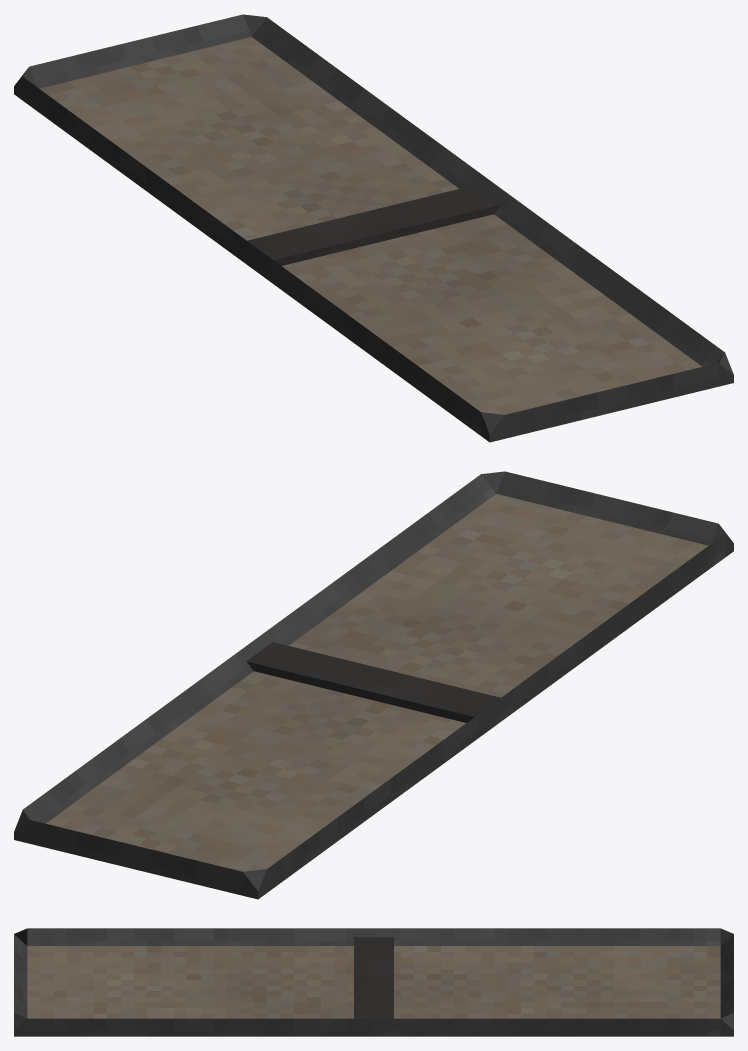
Rendered from big_switch_base.gltf.
3 views of the same model, one above another, from view 1: azimuth 30°, elevation 25°; view 2: azimuth 150°, elevation 25°; view 3: azimuth 270°, elevation 25° (orthographic). The views are drawn at different scales.
Visible parts, largest first — view 1: switch_base_case, switch_base_background, switch_connection_part; view 2: switch_base_case, switch_base_background, switch_connection_part; view 3: switch_base_case, switch_base_background, switch_connection_part.
Boxes of the visible parts, x1=… form: switch_base_case: x1=39, y1=37, x2=701, y2=414; switch_base_background: x1=14, y1=14, x2=733, y2=442; switch_connection_part: x1=247, y1=185, x2=501, y2=265; switch_base_case: x1=46, y1=494, x2=708, y2=871; switch_base_background: x1=14, y1=471, x2=733, y2=899; switch_connection_part: x1=246, y1=642, x2=500, y2=722; switch_base_case: x1=27, y1=946, x2=720, y2=1018; switch_base_background: x1=14, y1=928, x2=733, y2=1036; switch_connection_part: x1=354, y1=937, x2=393, y2=1018.
Size of the model in its own units: 1 by 0.0938 by 3.38.
3 materials, 3 textured.
